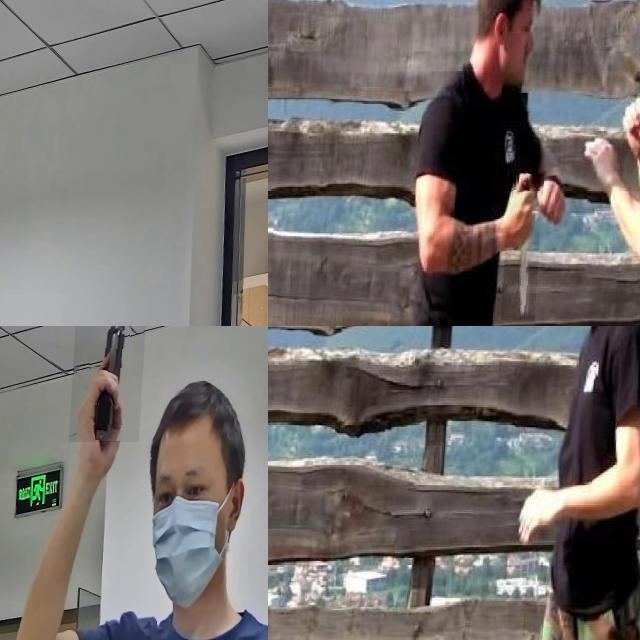-: (506, 173, 547, 322), (268, 403, 288, 552)
gun-knife-thesis - v11 Yolov5 augmented: (72, 326, 150, 441), (0, 172, 31, 310)
